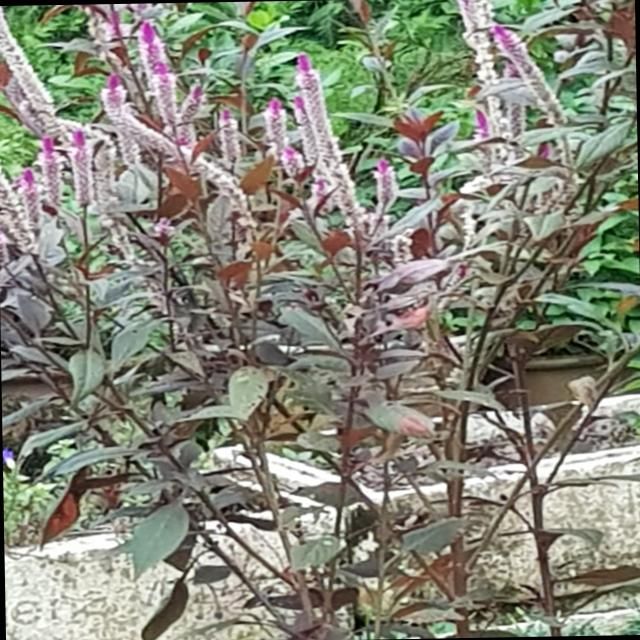Celosia-Argentea: (453, 13, 562, 154), (270, 46, 358, 200), (5, 118, 76, 248), (86, 74, 178, 158)
